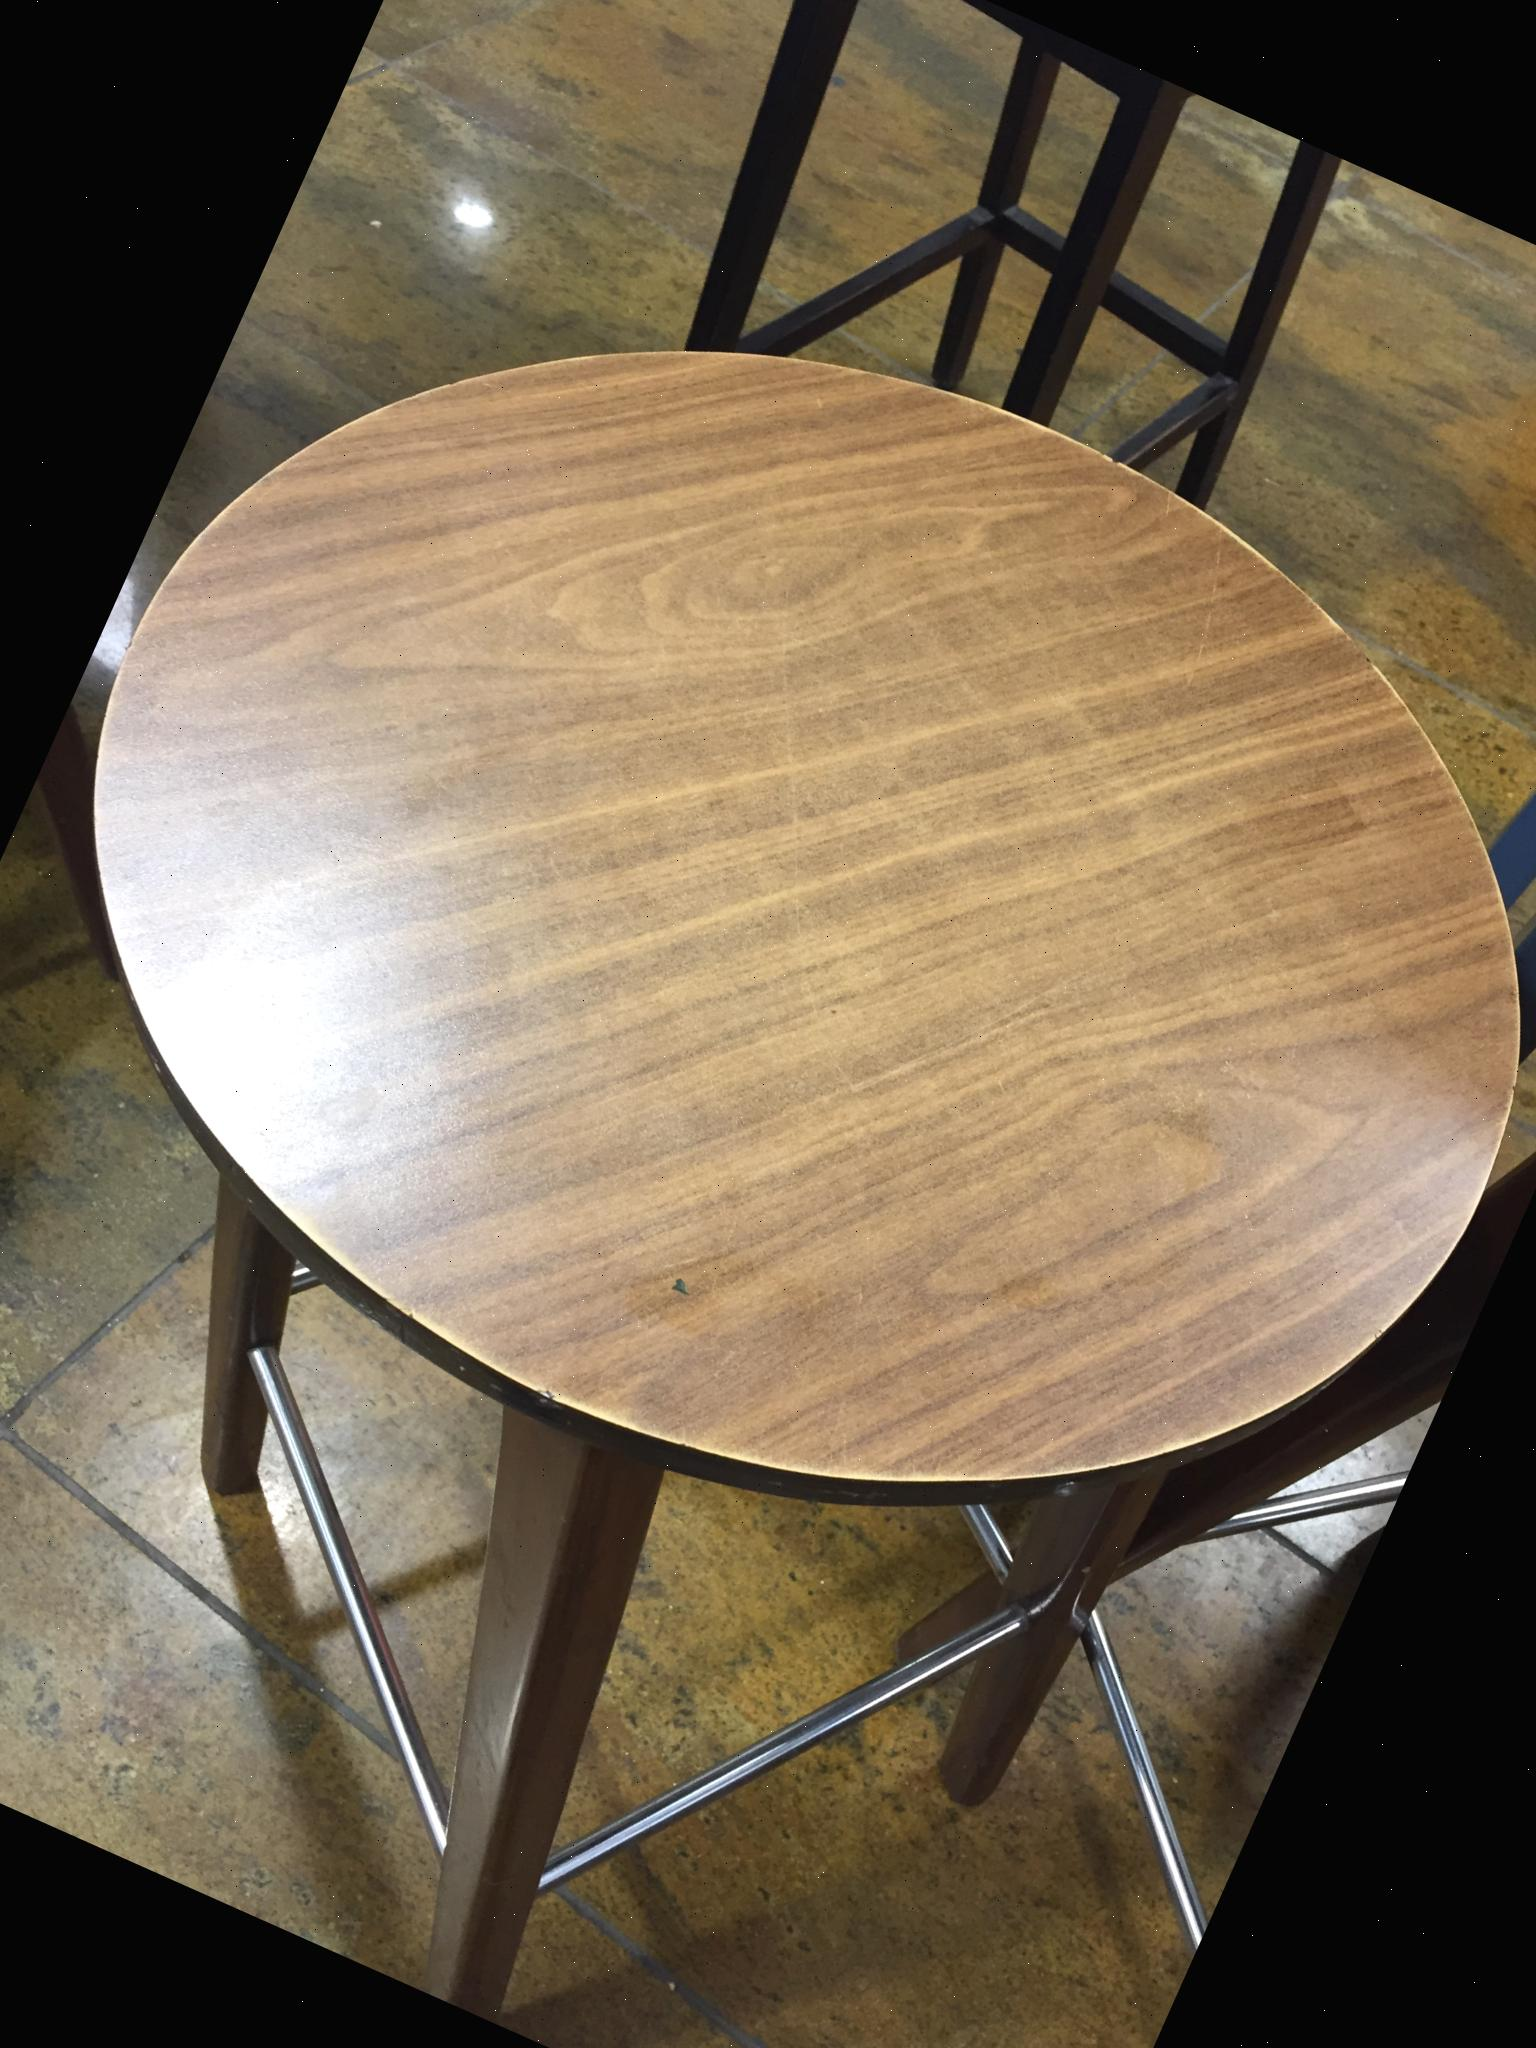chair: (674, 0, 1338, 485)
